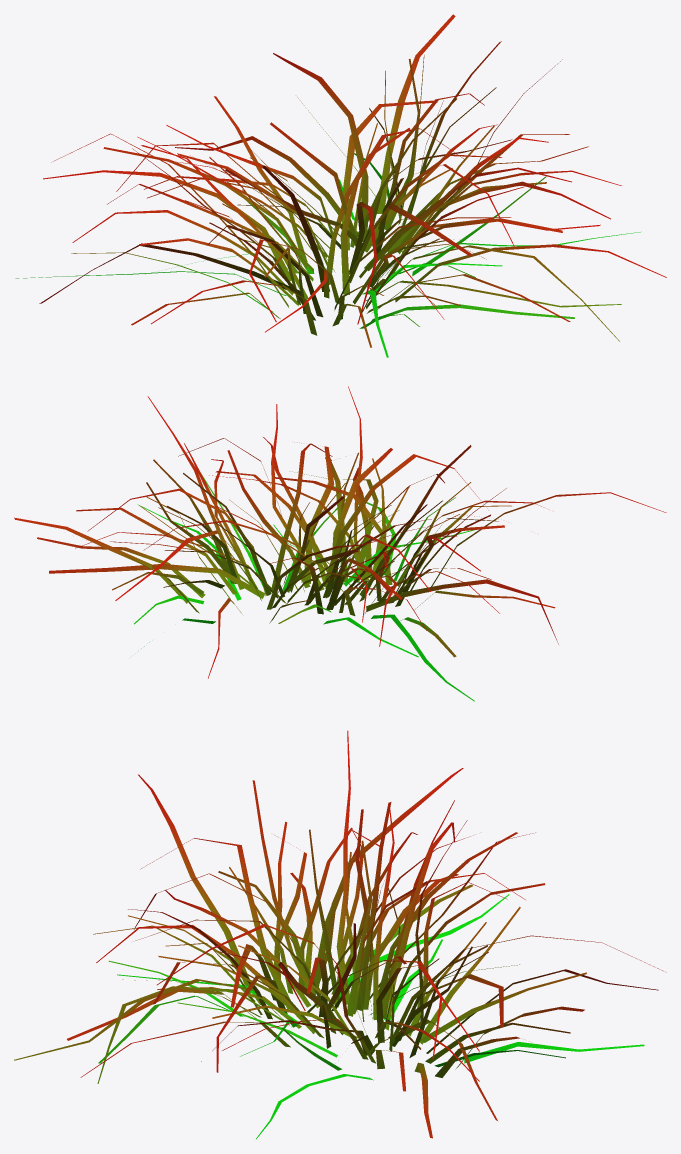
Rendered from vegetation_12.fbx.
The picture shows the model from 3 angles, top to bottom: view 1: azimuth 30°, elevation 25°; view 2: azimuth 150°, elevation 25°; view 3: azimuth 270°, elevation 25°; orthographic projection. The views are drawn at different scales.
Visible parts, largest first — view 1: _p4ow_Var10_; view 2: _p4ow_Var10_; view 3: _p4ow_Var10_.
Part boxes in pixels (x1=…): _p4ow_Var10_: x1=15, y1=14, x2=666, y2=357; _p4ow_Var10_: x1=14, y1=386, x2=666, y2=701; _p4ow_Var10_: x1=14, y1=730, x2=666, y2=1139.
Bounding box in the file's own units: 27.09 × 8.65 × 25.41.
